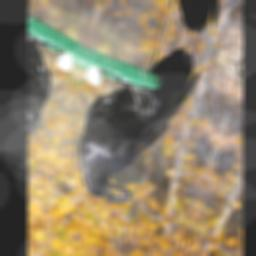Crow: (65, 14, 205, 223)
